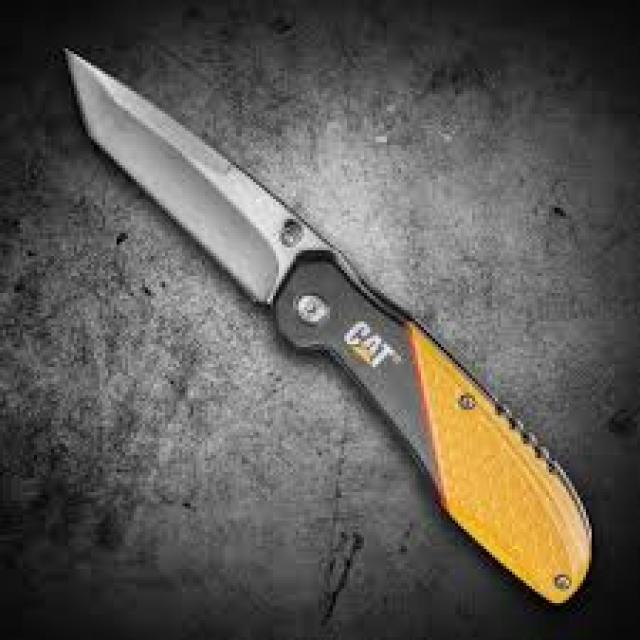knives: (57, 40, 600, 614)
